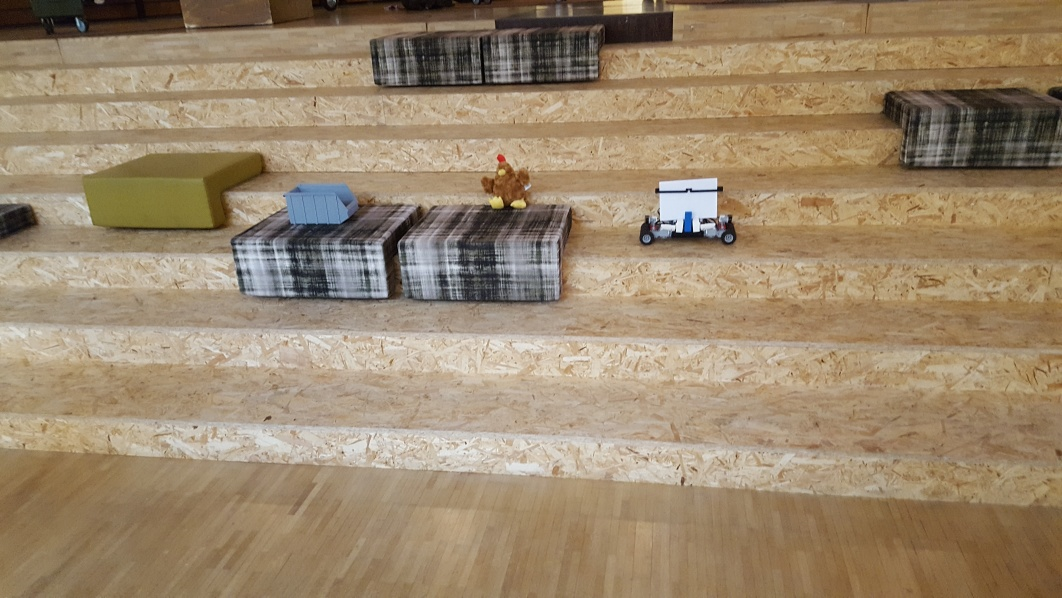car: (641, 177, 738, 248)
chicken: (481, 153, 533, 210)
tray: (283, 180, 358, 227)
